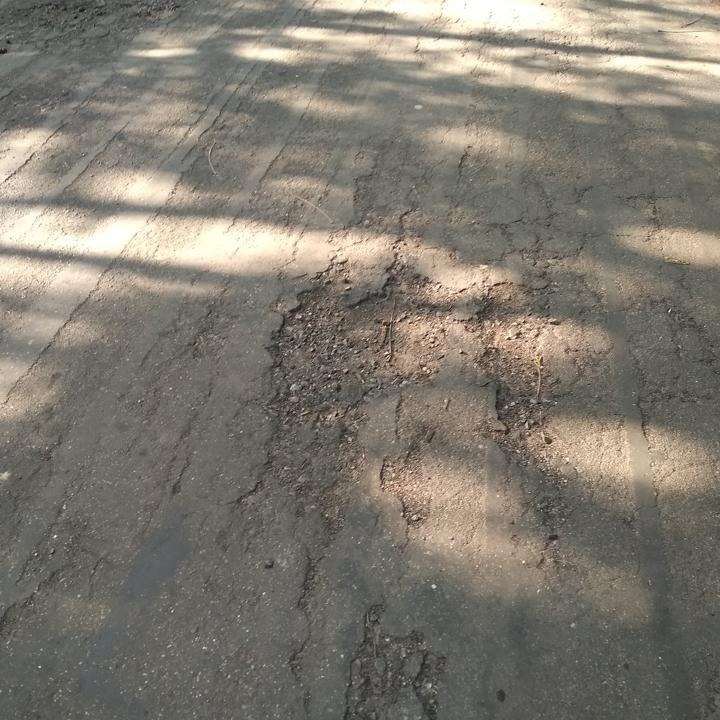pothole: (263, 257, 464, 425), (475, 276, 561, 451)
